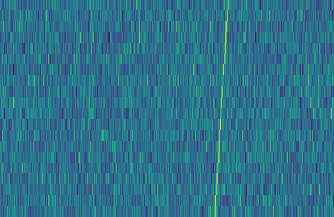signal: (211, 0, 233, 217)
